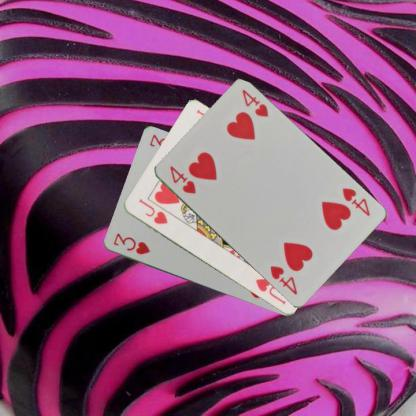3h: (110, 230, 152, 256)
4h: (339, 185, 371, 218), (166, 163, 197, 195)
Jh: (136, 196, 168, 226)
